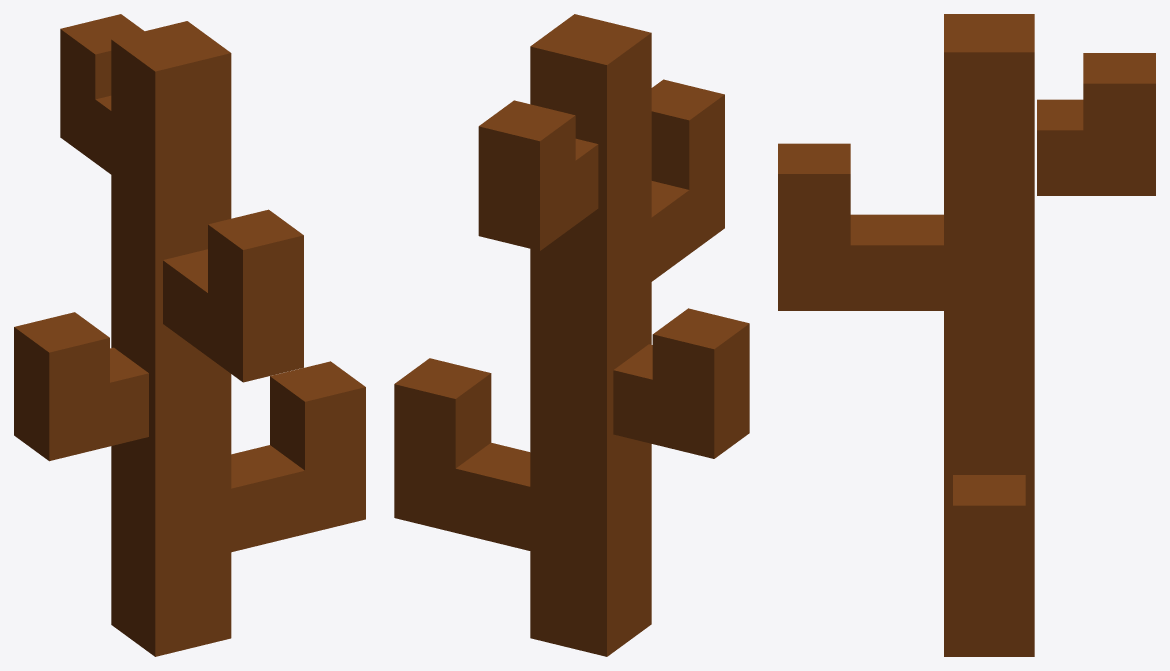
The model's file is Desert_DeadTree2.glb.
The picture shows the model from 3 angles, left to right: view 1: azimuth 30°, elevation 25°; view 2: azimuth 150°, elevation 25°; view 3: azimuth 270°, elevation 25°; orthographic projection. The views are drawn at different scales.
Visible parts, largest first — view 1: Cube.010; view 2: Cube.010; view 3: Cube.010.
Part boxes in pixels (x1,y1,x2,y2): Cube.010: [14, 14, 365, 656]; Cube.010: [394, 14, 749, 656]; Cube.010: [778, 14, 1155, 656].
Size of the model in its own units: 1.41 by 2.49 by 1.41.
1 material, 1 textured.
